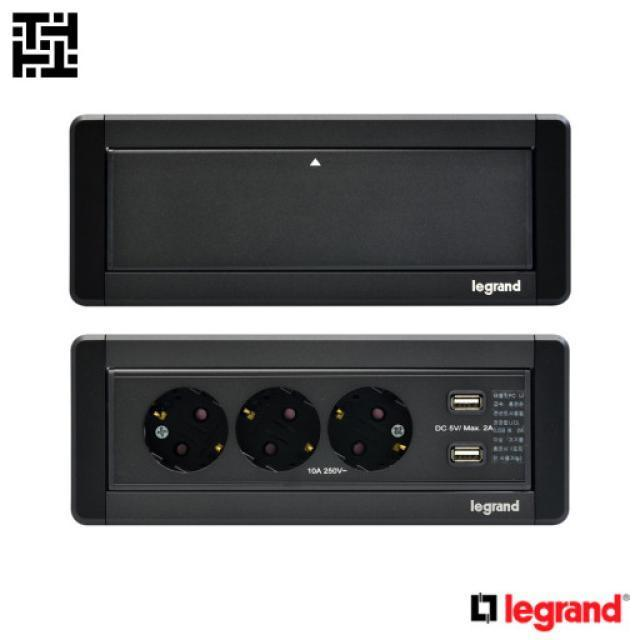typeb: (64, 325, 597, 558)
